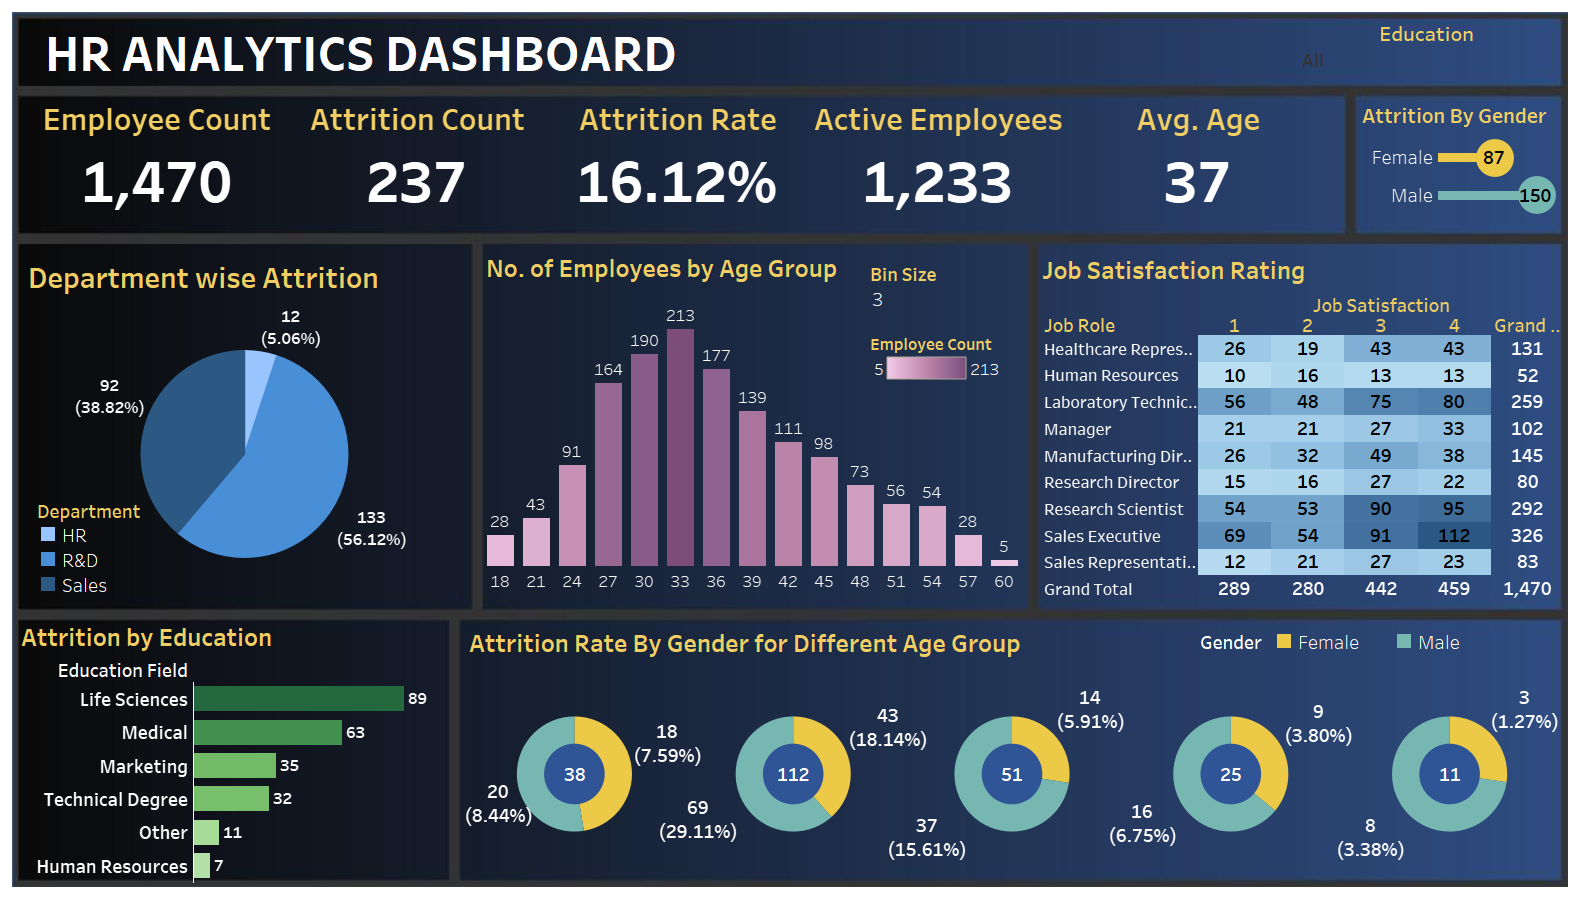

This screenshot's page, from the dashboard's own definition file:
{"tool":"tableau","page":{"name":"HR Analytics Dashboard","canvas":[1580,900],"ordinal":0},"visuals":[{"type":"image","param":"C:/Users/visha/Downloads/HR background.pptx.jpg","box":[8,8,1564,884]},{"type":"text","box":[41,12,871,78]},{"type":"filter","title":"KPI","param":"[federated.0ov671h10pkcff11errap1hb1px0].[none:Education:nk]","box":[1300,18,253,57]},{"type":"worksheet","title":"Attrition By Gender","mark":"Automatic","rows":["Gender"],"cols":["Calculation_234750134074810368","Calculation_234750134074810368"],"box":[1358,95,203,119]},{"type":"worksheet","title":"KPI","mark":"Automatic","box":[27,98,1302,124]},{"type":"worksheet","title":"No. of Employees by Age Group","mark":"Automatic","rows":["Employee Count"],"cols":["Age (bin)"],"box":[482,245,540,348]},{"type":"worksheet","title":"Job Satisfaction Rating","mark":"Square","rows":["Job Role"],"cols":["Job Satisfaction"],"box":[1038,247,526,355]},{"type":"worksheet","title":"Department wise Attrition","mark":"Pie","box":[24,252,441,351]},{"type":"parameter","param":"[Parameters].[Parameter 1]","box":[870,260,153,60]},{"type":"legend","title":"No. of Employees by Age Group","param":"[federated.0ov671h10pkcff11errap1hb1px0].[sum:Employee Count:qk]","box":[870,329,134,68]},{"type":"legend","title":"Department wise Attrition","param":"[federated.0ov671h10pkcff11errap1hb1px0].[none:Department:nk]","box":[36,496,140,101]},{"type":"worksheet","title":"Attrition by Education","mark":"Automatic","rows":["Education Field"],"cols":["Calculation_234750134074810368"],"box":[17,614,427,268]},{"type":"worksheet","title":"Attrition Rate By Gender for Different Age Group","mark":"Pie","rows":["Calculation_234750134099087364","Calculation_234750134099087364"],"cols":["CF_age band"],"box":[465,620,1094,260]},{"type":"legend","title":"Attrition Rate By Gender for Different Age Group","param":"[federated.0ov671h10pkcff11errap1hb1px0].[none:Gender:nk]","box":[1200,629,344,36]}]}

Visuals, with their boxes in screenshot pixels (x1, y1, x2, y2), scaled from the page's 1580x900 canvas onto the 1580x900 screenshot:
image: region(8, 8, 1572, 892)
text: region(41, 12, 912, 90)
"KPI" filter: region(1300, 18, 1553, 75)
"Attrition By Gender" worksheet: region(1358, 95, 1561, 214)
"KPI" worksheet: region(27, 98, 1329, 222)
"No. of Employees by Age Group" worksheet: region(482, 245, 1022, 593)
"Job Satisfaction Rating" worksheet (Square marks): region(1038, 247, 1564, 602)
"Department wise Attrition" worksheet (Pie marks): region(24, 252, 465, 603)
parameter: region(870, 260, 1023, 320)
"No. of Employees by Age Group" legend: region(870, 329, 1004, 397)
"Department wise Attrition" legend: region(36, 496, 176, 597)
"Attrition by Education" worksheet: region(17, 614, 444, 882)
"Attrition Rate By Gender for Different Age Group" worksheet (Pie marks): region(465, 620, 1559, 880)
"Attrition Rate By Gender for Different Age Group" legend: region(1200, 629, 1544, 665)
